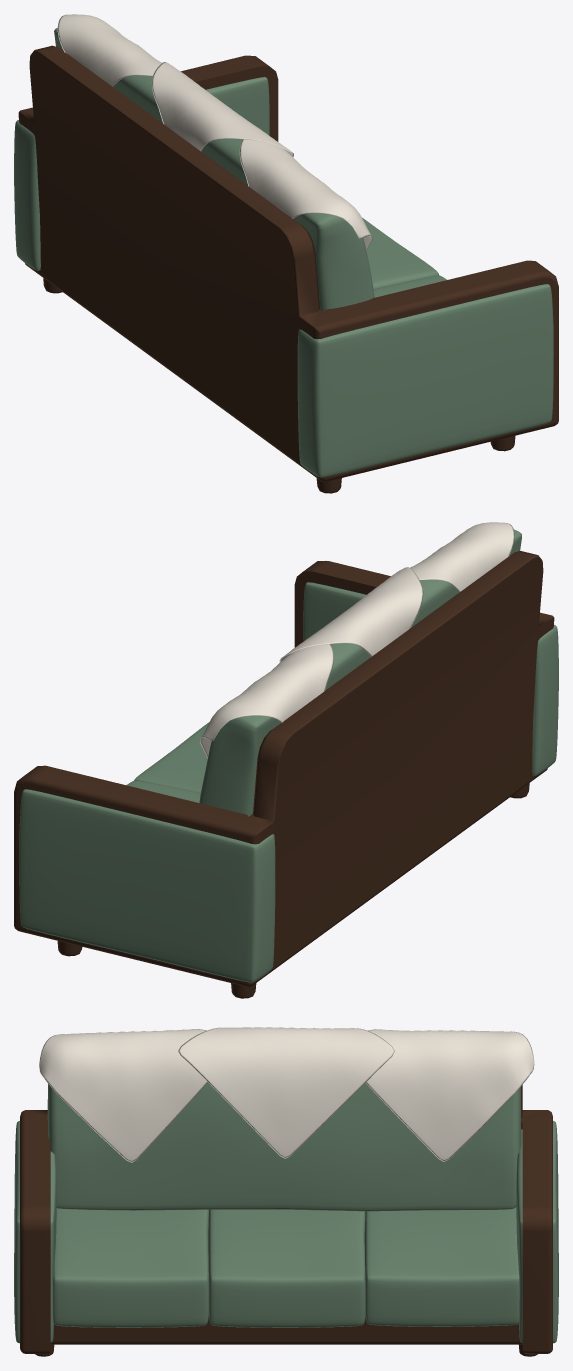
File: sofa.fbx
3 views of the same model, one above another, from view 1: azimuth 30°, elevation 25°; view 2: azimuth 150°, elevation 25°; view 3: azimuth 270°, elevation 25° (orthographic). The views are drawn at different scales.
Visible parts, largest first — view 1: sofa_model; view 2: sofa_model; view 3: sofa_model.
Part boxes in pixels (x1,y1,x2,y2): sofa_model: (14, 14, 558, 493); sofa_model: (14, 522, 558, 998); sofa_model: (14, 1027, 558, 1356).
Size of the model in its own units: 1.25 by 1.35 by 2.63.
